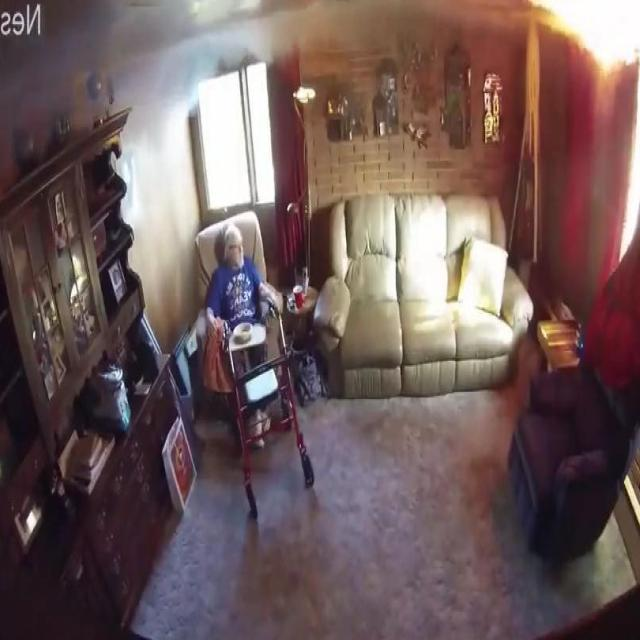fire: (0, 12, 277, 152)
smoke: (531, 0, 640, 70)
